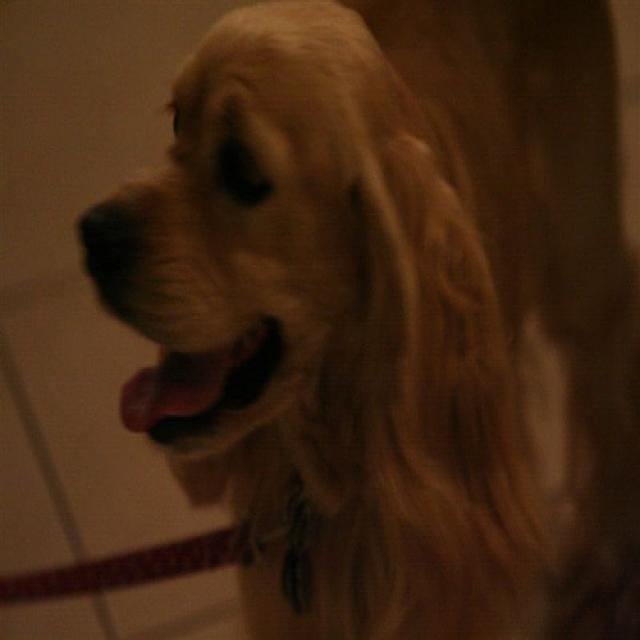Dog: (71, 18, 588, 620)
